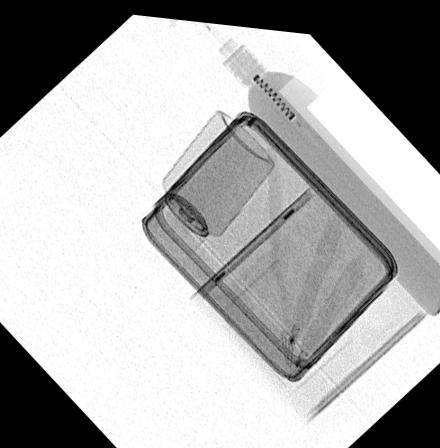Sprayer: (150, 103, 276, 245)
